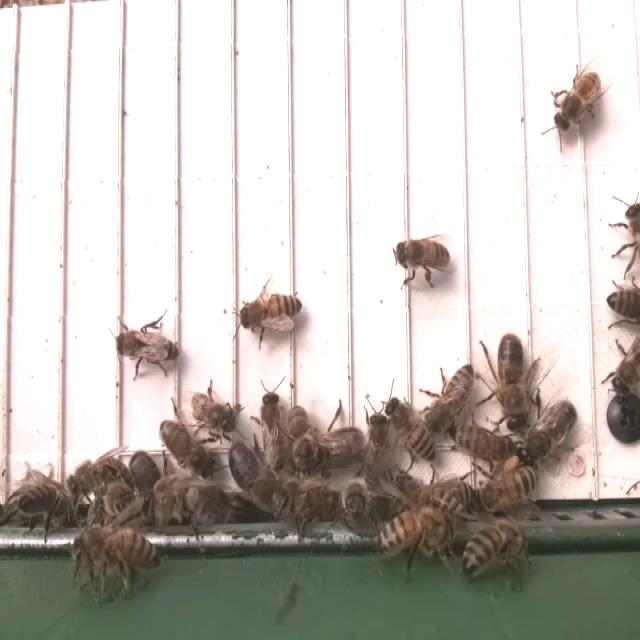Drone: (226, 434, 277, 516), (495, 329, 533, 436), (522, 398, 580, 467)
Worker: (155, 415, 218, 479), (384, 388, 437, 463), (424, 361, 477, 435), (550, 67, 603, 135), (234, 289, 305, 338), (116, 325, 180, 372), (449, 424, 513, 467), (259, 383, 288, 471), (390, 238, 453, 275)
